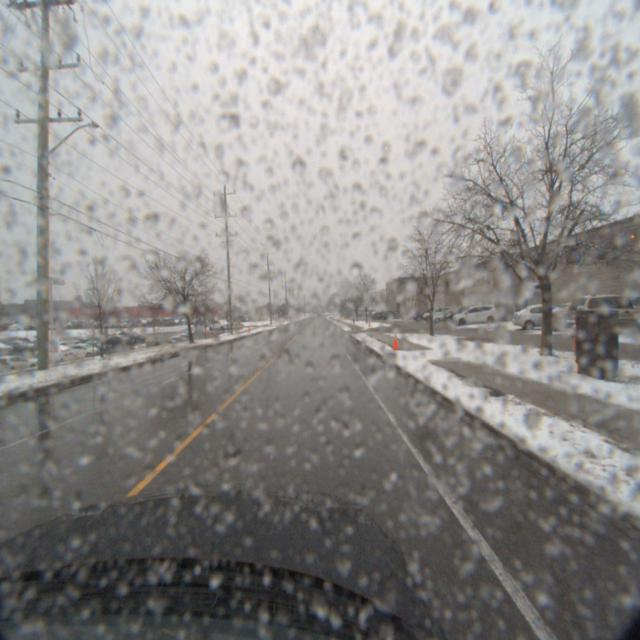Car: (530, 301, 615, 333), (503, 303, 577, 333), (446, 305, 496, 326)
